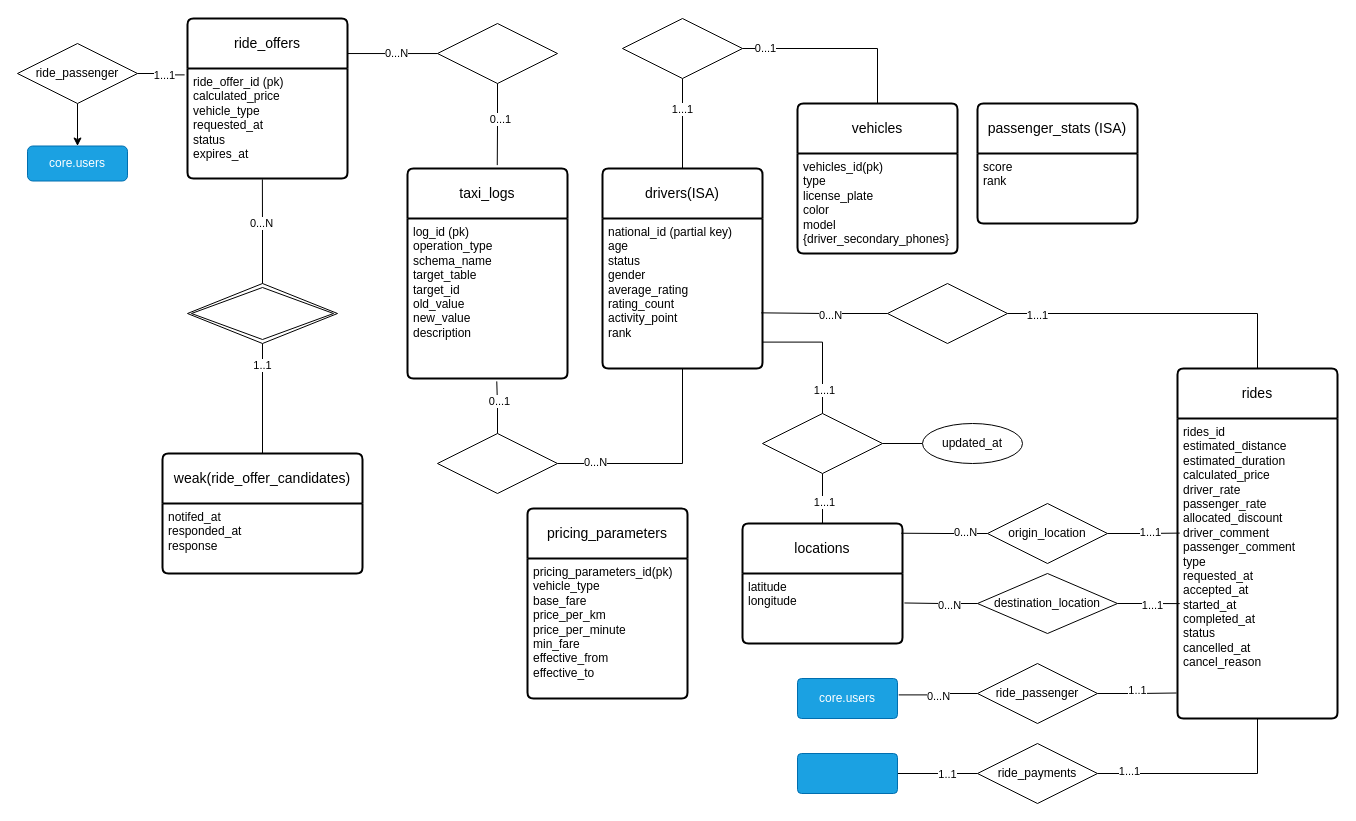
Some shapes in this 1356 by 821 pixel diagram are drawn without their labels. The shapes that lost their labels are listed below. From the top down, each one's centre as x and y in pixels, then its label:
At point 497,53: "rode_of_log".
At point 682,48: "active_vehicles".
At point 262,313: "ride_candidates".
At point 947,313: "ride_driver".
At point 497,463: "driver_of_log".
At point 822,443: "live_location".
At point 847,773: "core.transactions".
